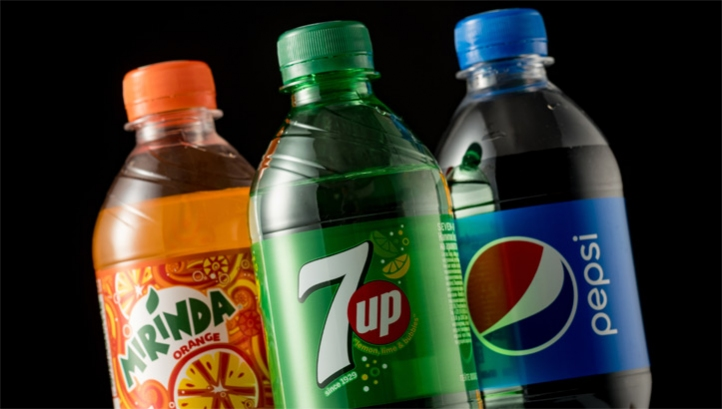plastic_bottle: (220, 4, 513, 409), (403, 1, 688, 409), (56, 19, 315, 409)
